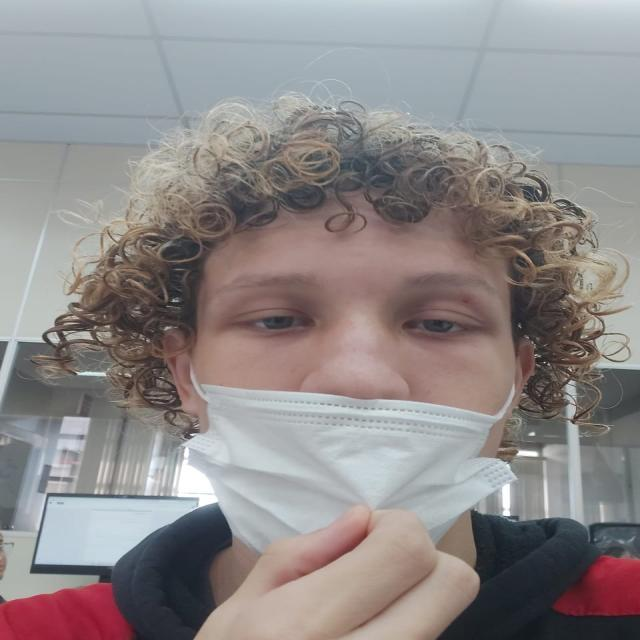hairnet: (188, 214, 499, 525)
